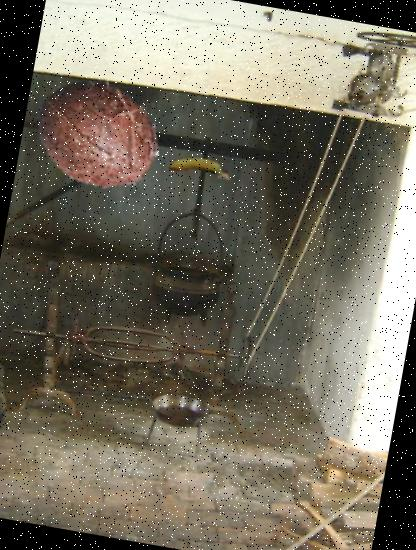Banana: (166, 138, 234, 206)
Cocos: (21, 59, 172, 210)
